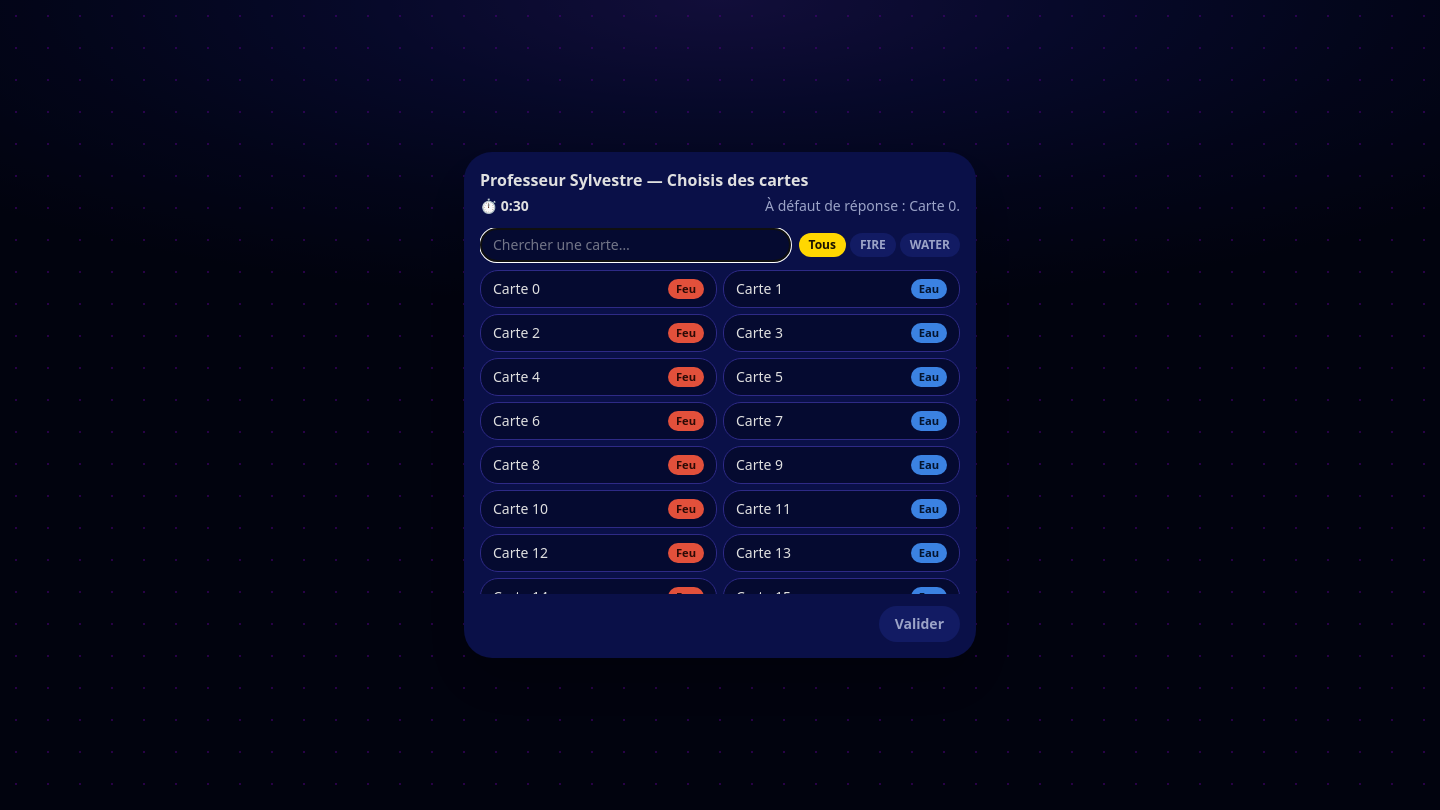
Test: FenetreDecision — recherche dans un grand ensemble › retrouve une carte précise dans une pioche de soixante
Type "ronflex" into the search field with test id "decision-recherche" at (635, 245), box [480,228,790,262]
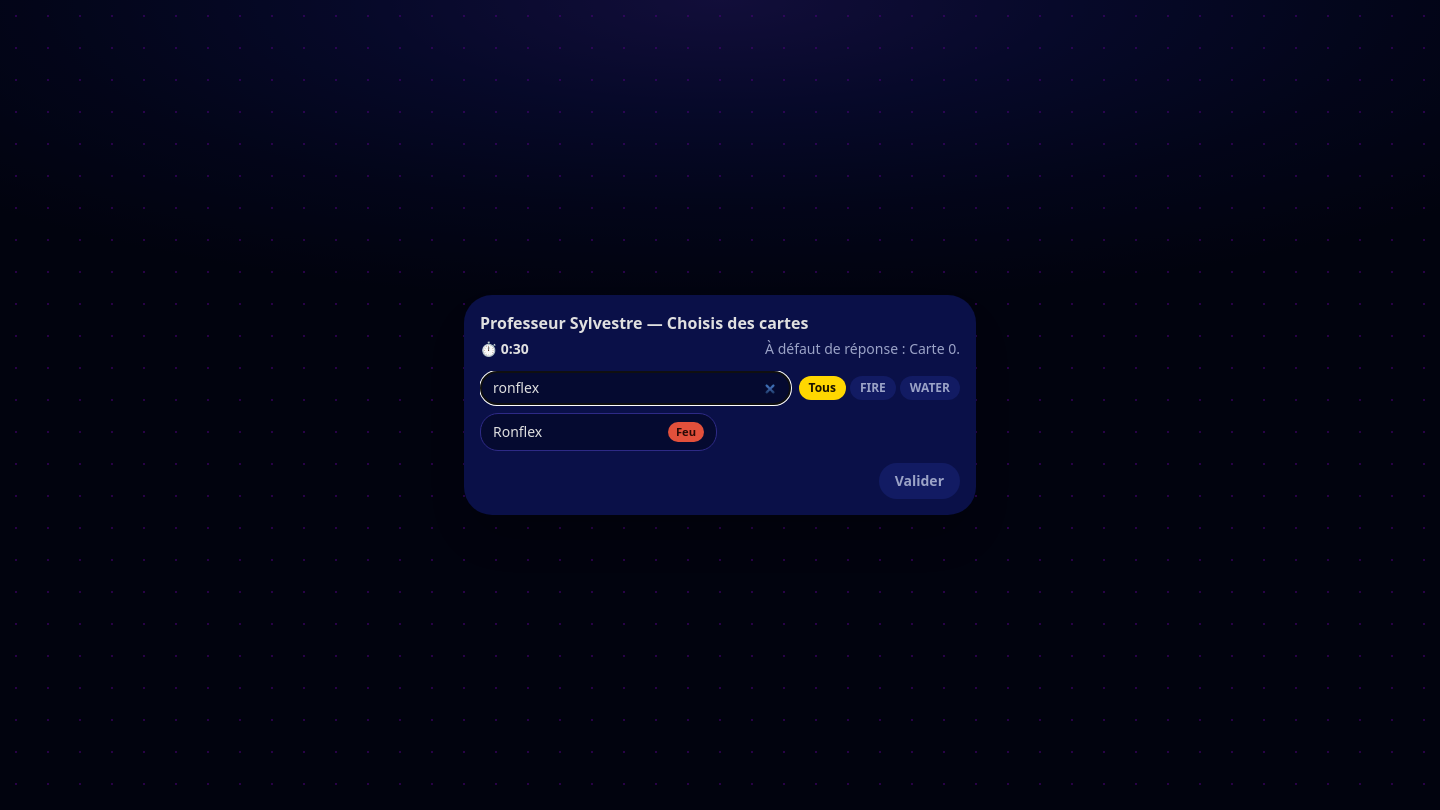
Result: the button with test id "option-k42" is shown at [480,413,717,451]
Result: the button with test id "option-k0" is gone
